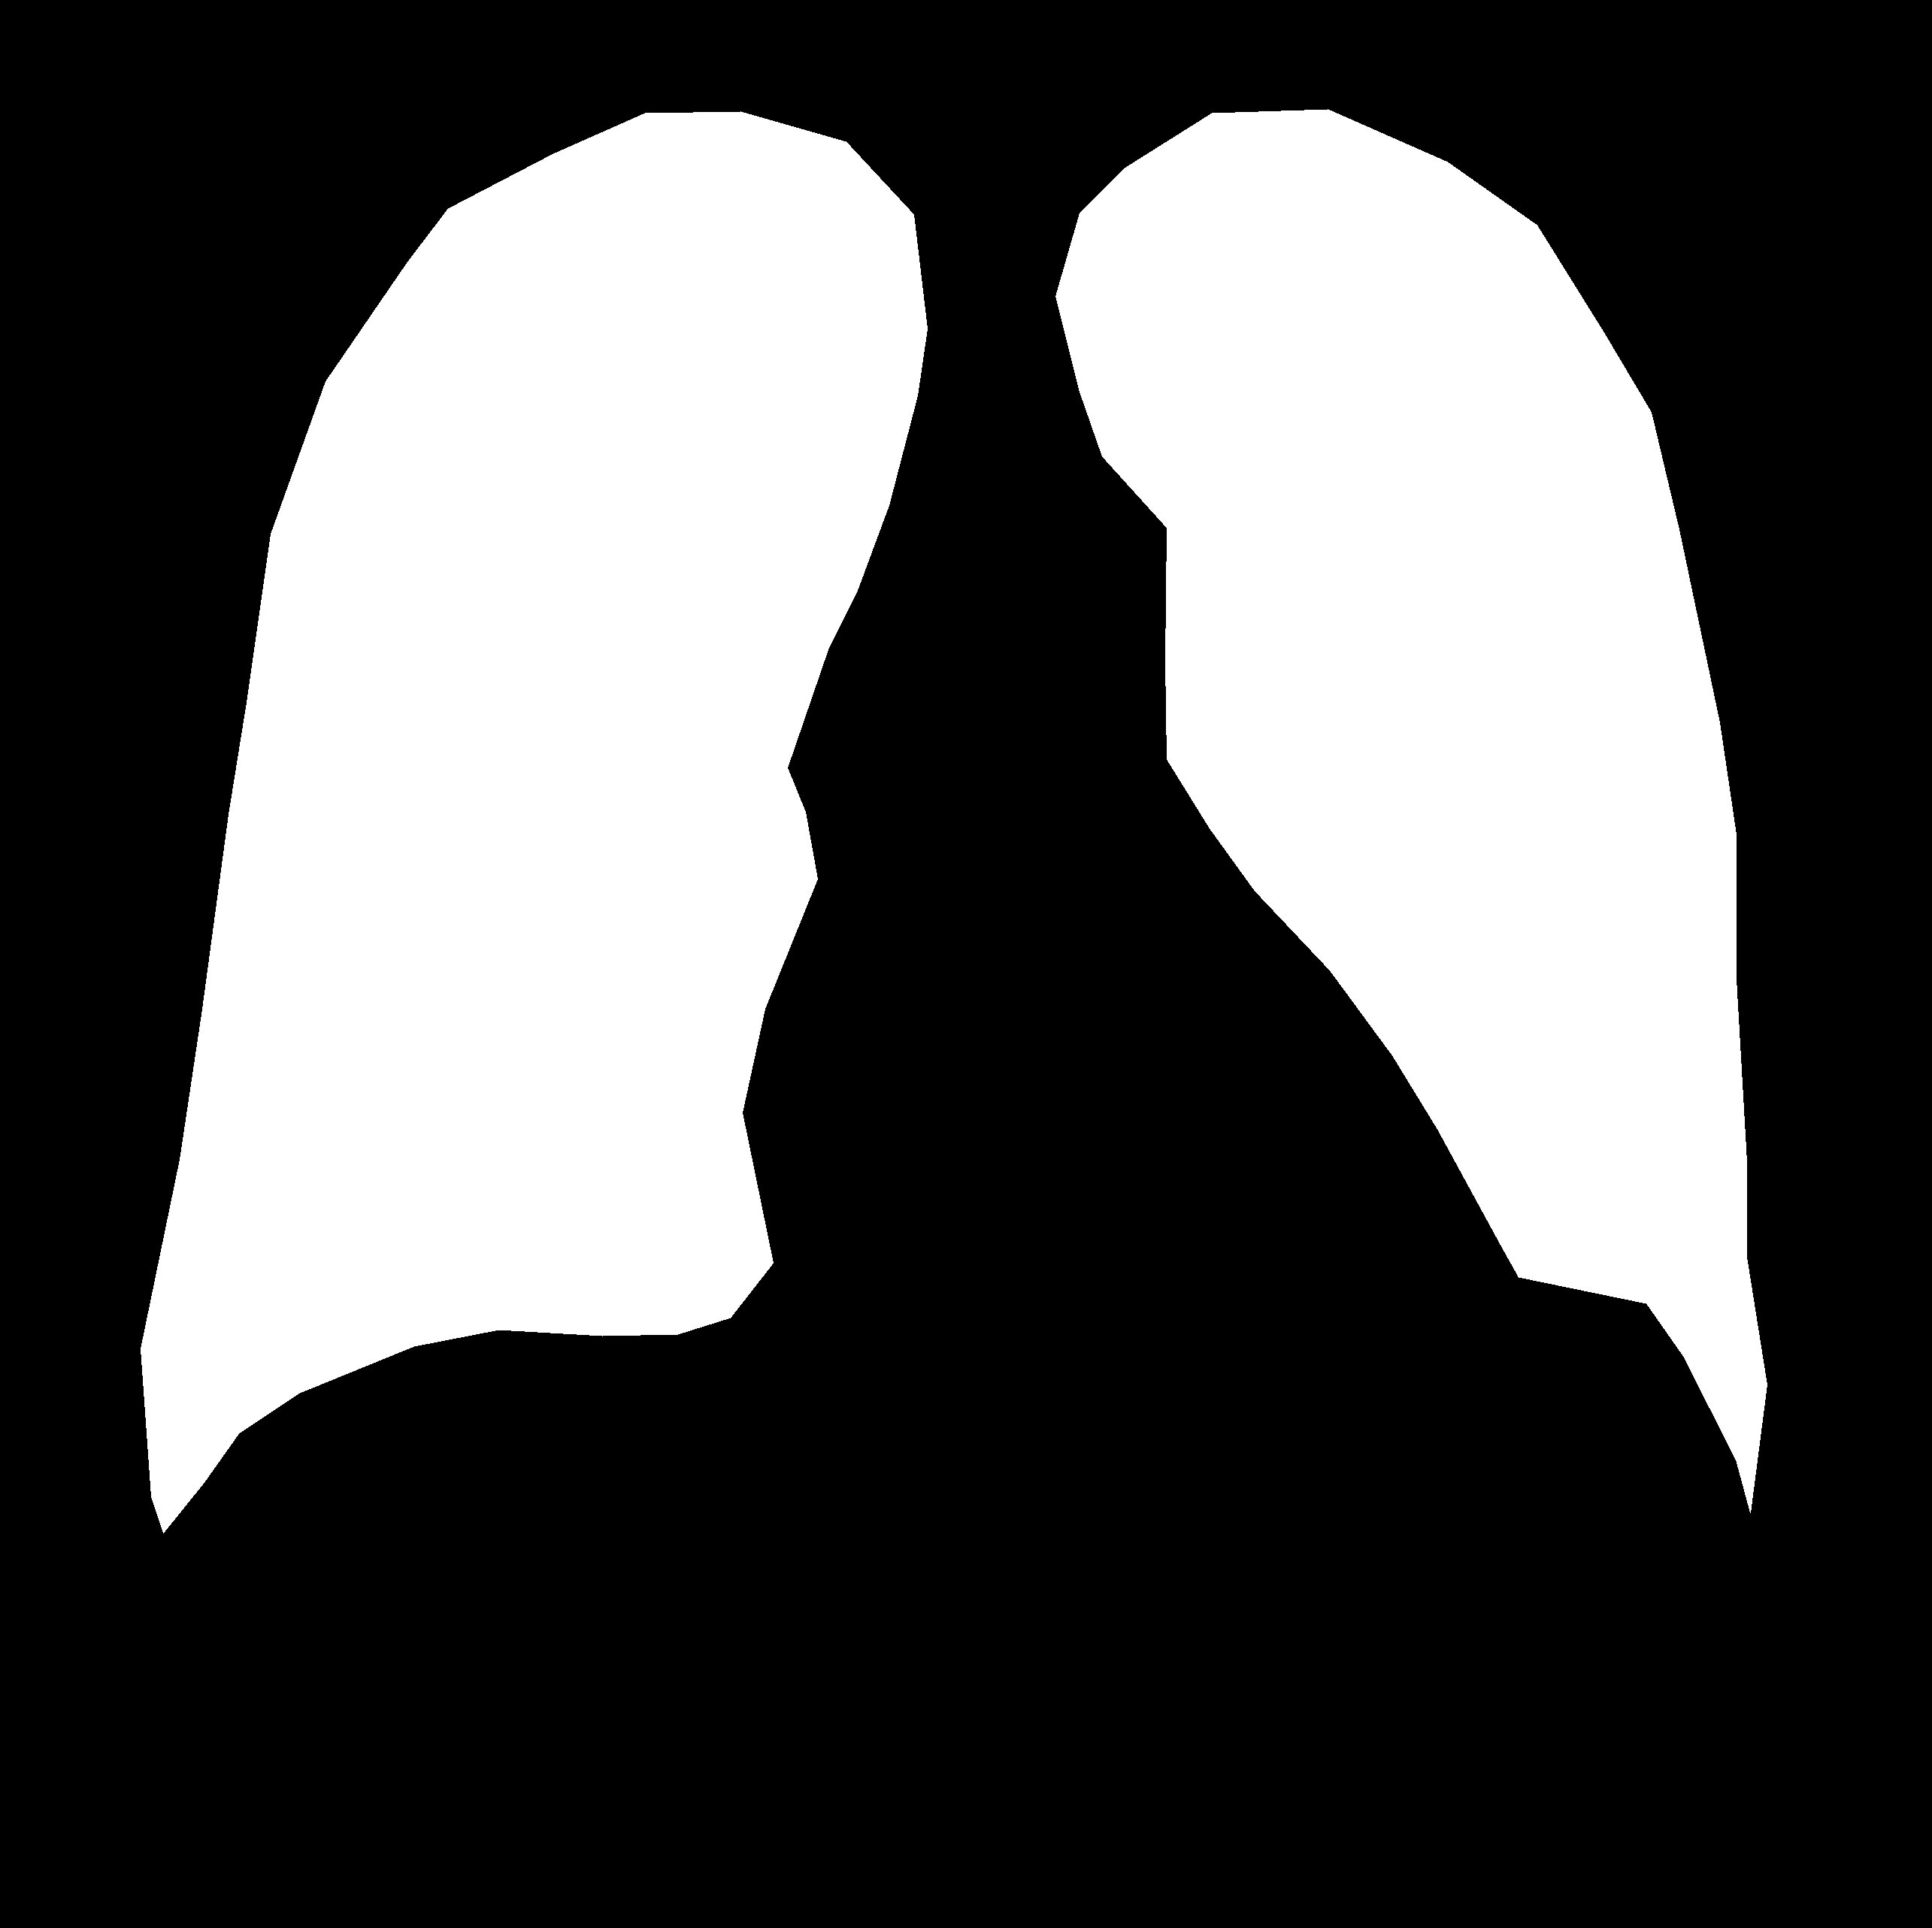heart: (749, 685, 1506, 1382)
left_lung: (141, 111, 927, 1533)
right_lung: (1056, 109, 1766, 1513)
